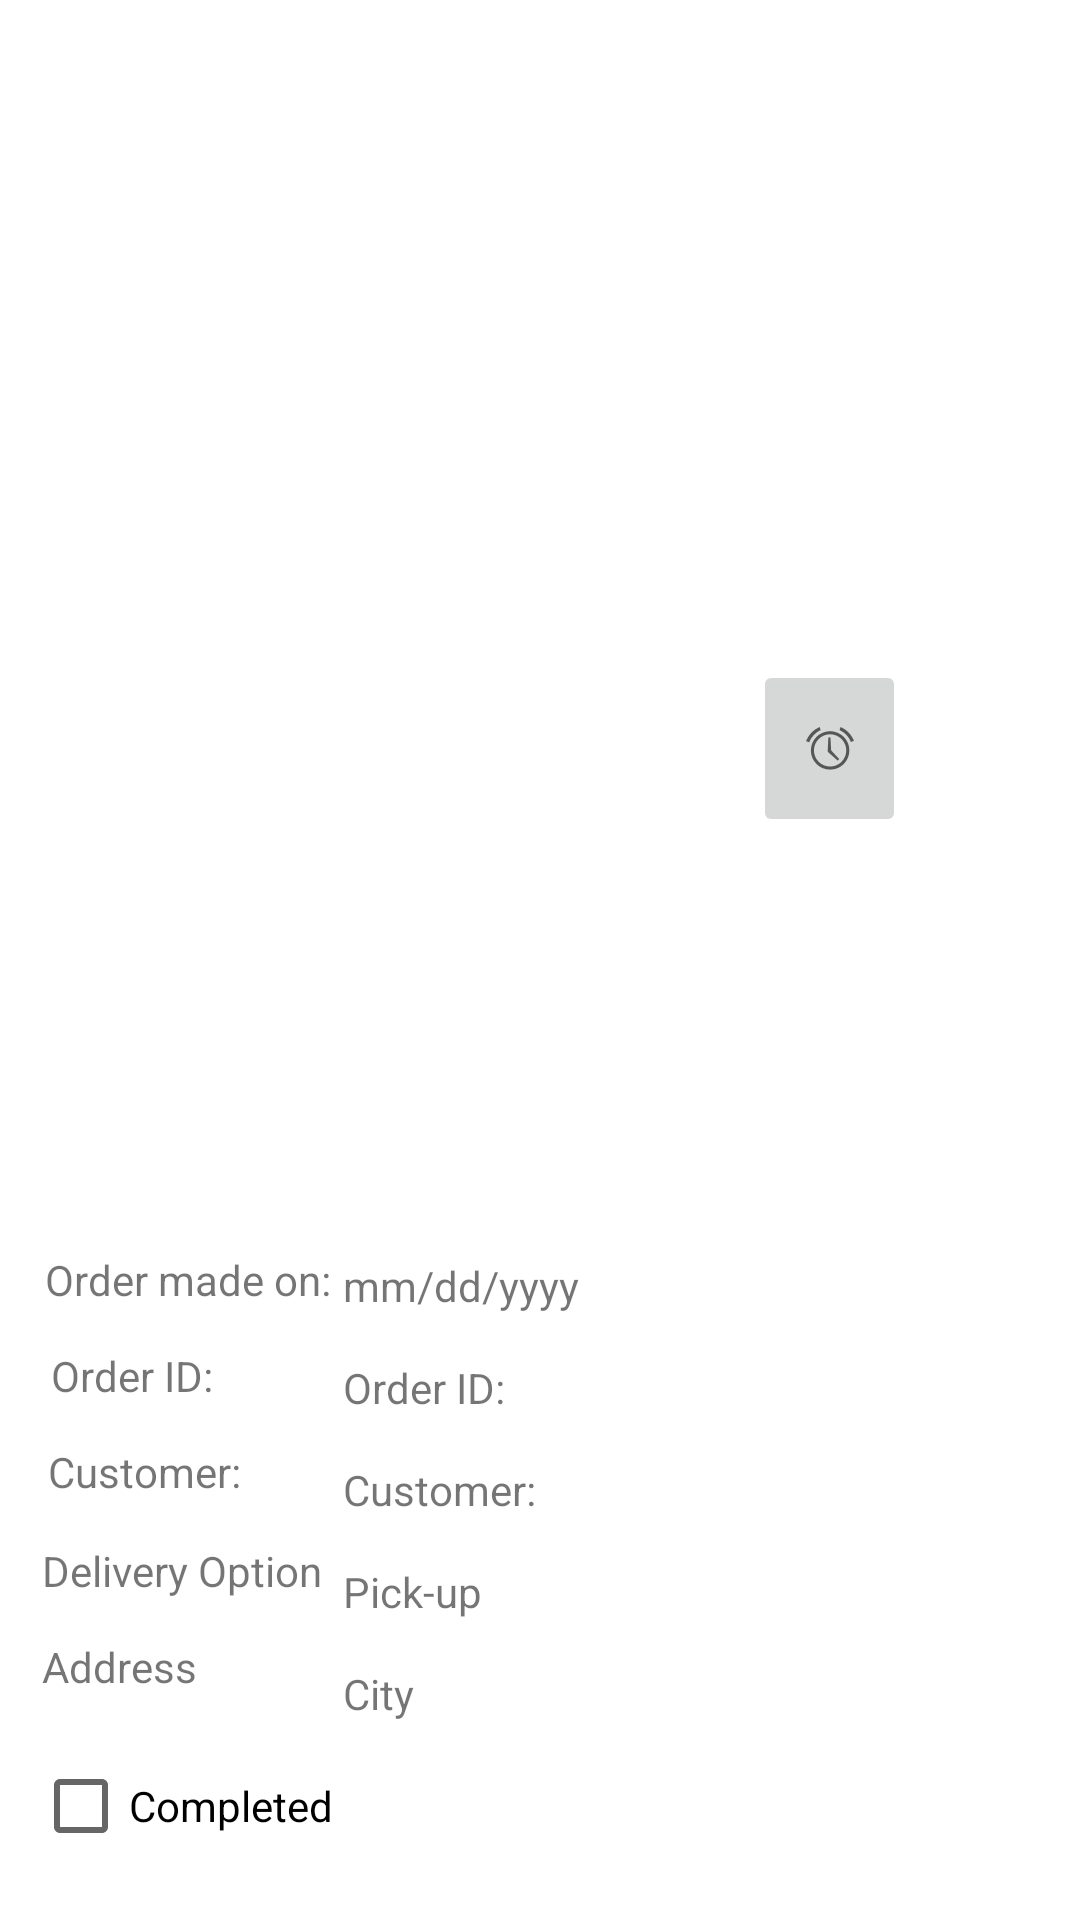

Locate icon controls on the screen. Image size 1080w x 1920h, boxes as Rect(x1, y1, x2, y2).
lock idle alarm: Rect(765, 678, 894, 819)
